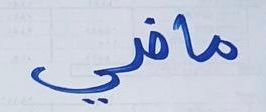heh: (172, 8, 198, 70)
meem: (200, 27, 241, 72)
sheen: (125, 16, 170, 74)
yeh: (26, 52, 123, 105)
